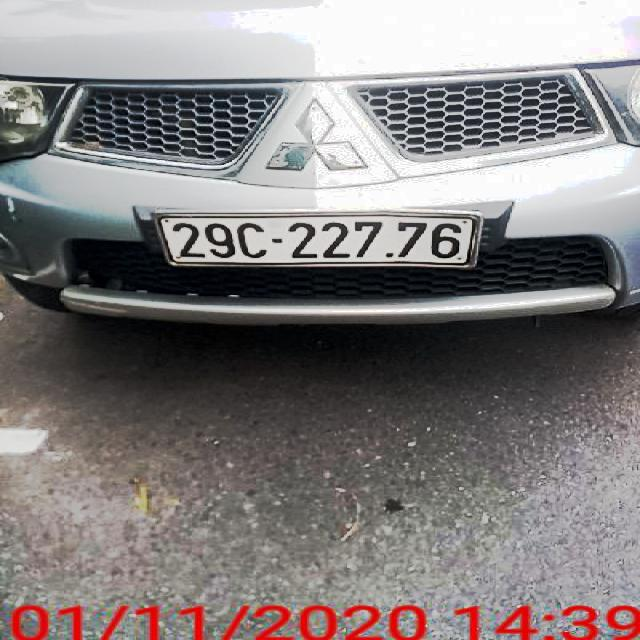license_plate: (152, 213, 489, 268)
